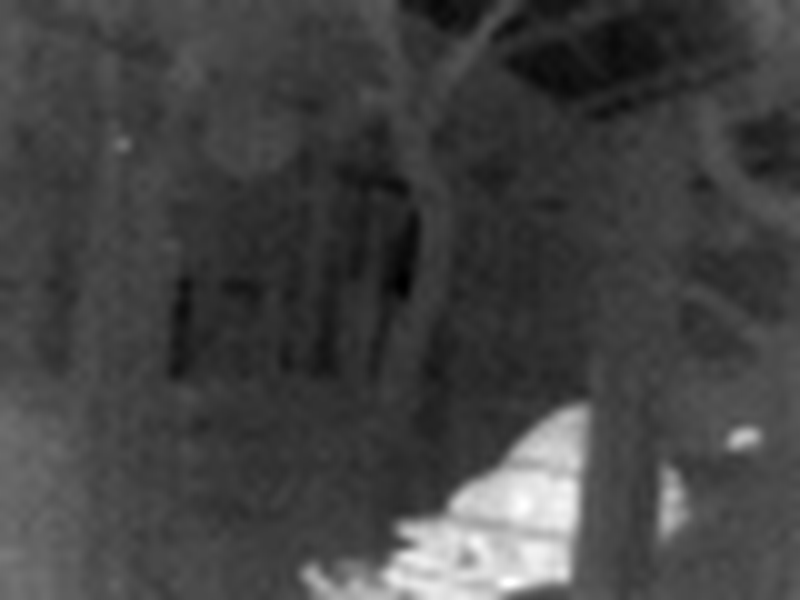elephant: (326, 384, 725, 600)
